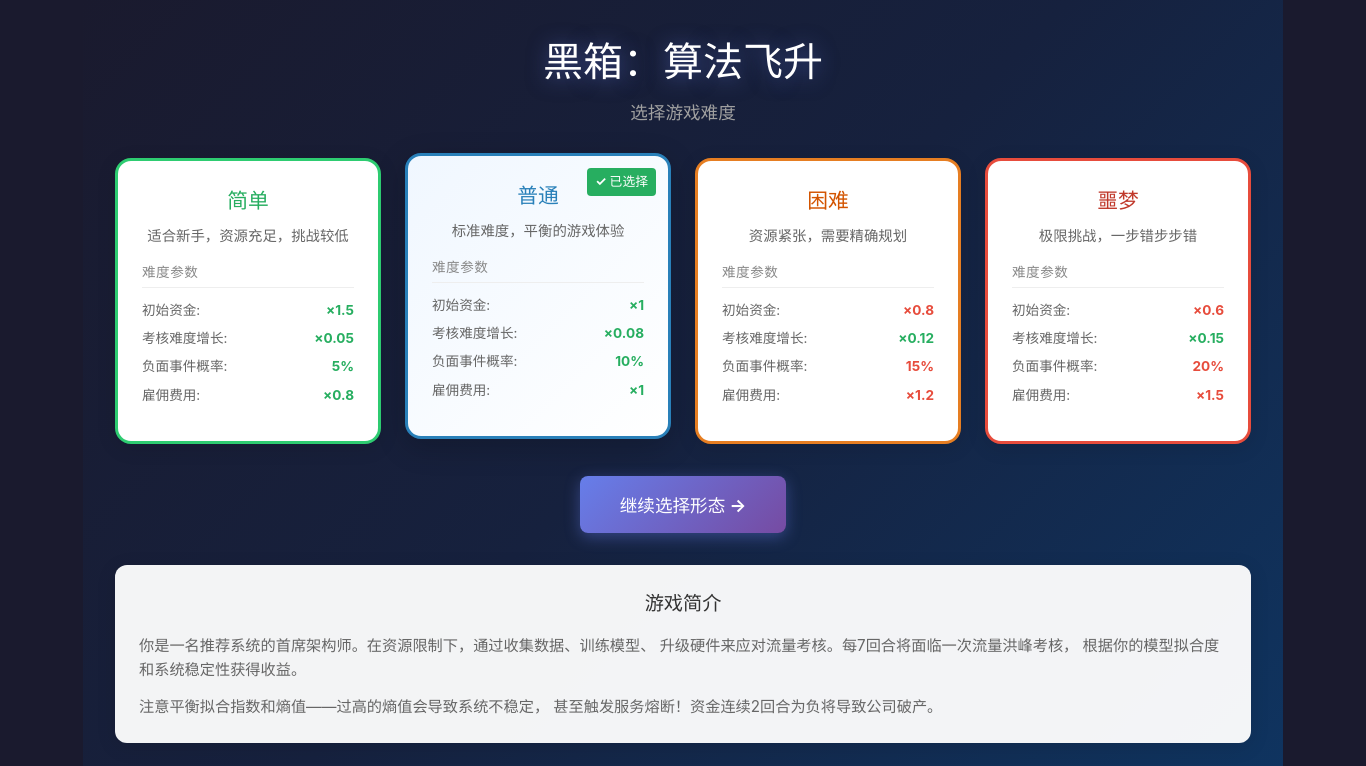
Scenario: GameInitializer 组件 › 形态选择界面 › 应该显示已选择的难度
Click the text "困难" at (828, 301), box x1=695 y1=158 x2=961 y2=444
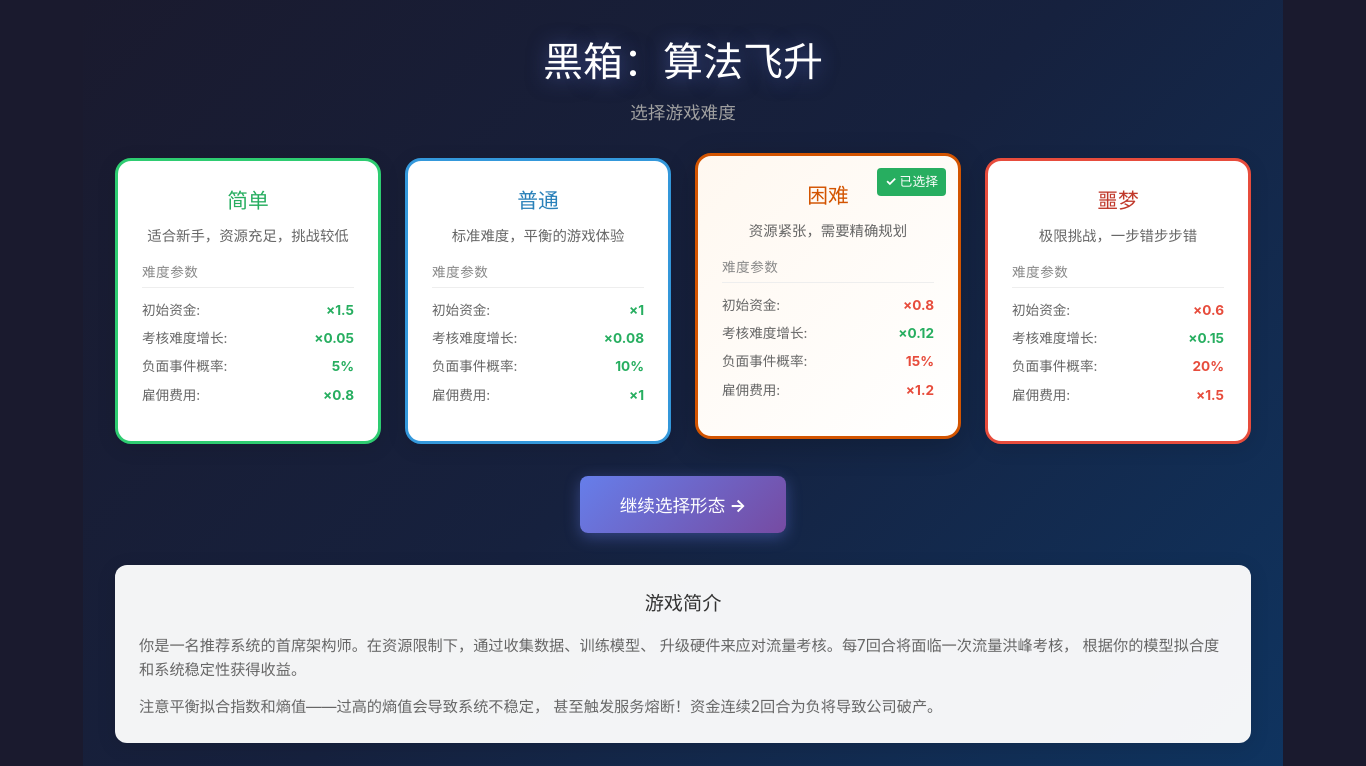
Click the button "继续选择形态 →" at (683, 505), box x1=580 y1=476 x2=786 y2=533
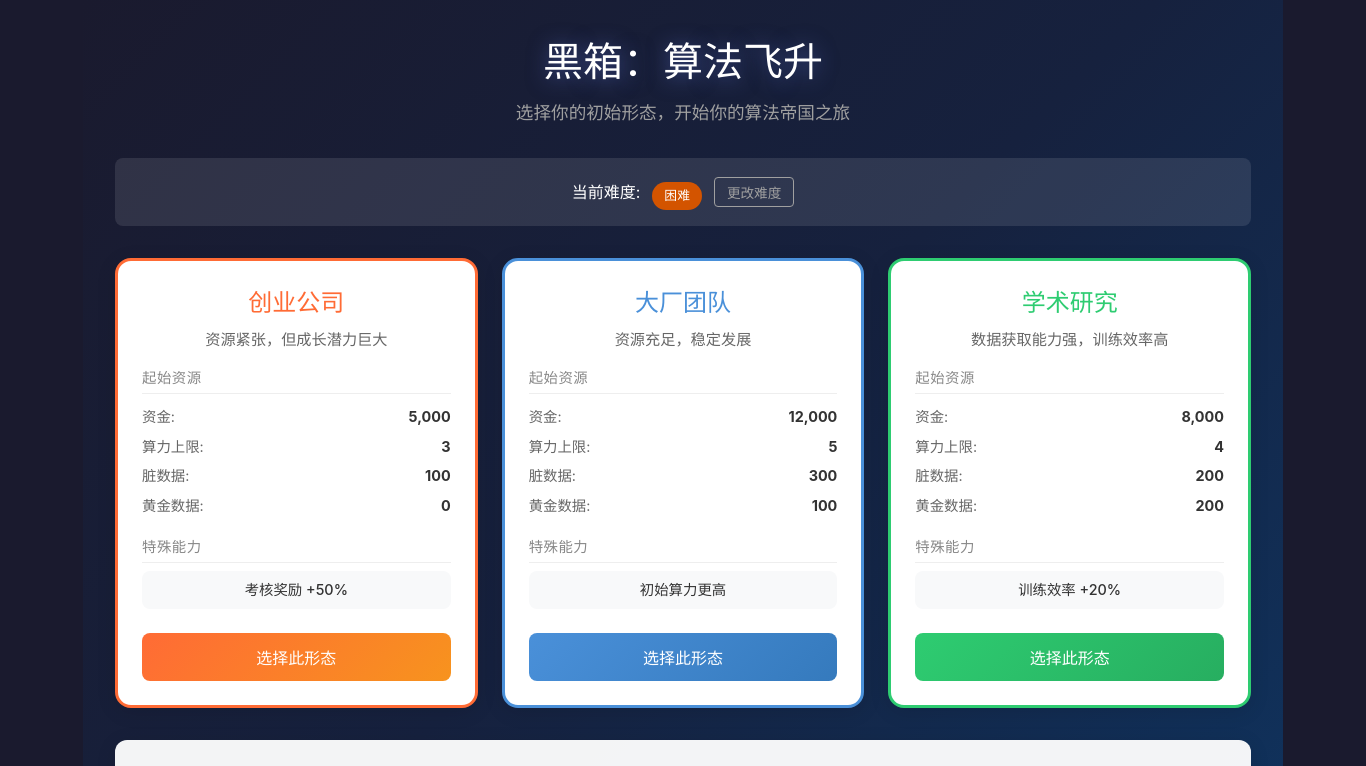
expect the text "困难" is shown: met, box x1=652 y1=182 x2=702 y2=210
expect the text "当前难度:" is shown: met, box x1=572 y1=180 x2=640 y2=204
